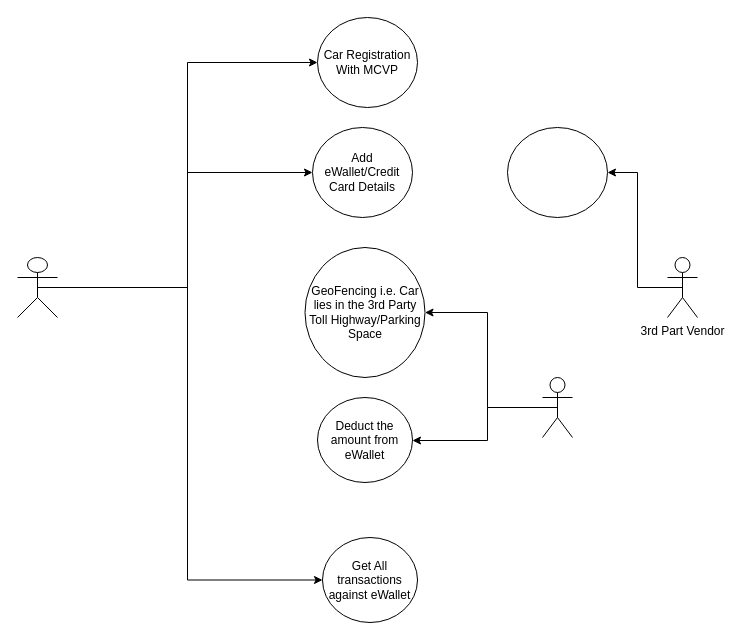
Image size: 742x640. Some labels were removed from this diagram. The centre of each missing label's shape, as x and y in pixels:
Automation: point 557,407
Register With Blockchain as a trusted entity: point 557,172
User: point 37,287
